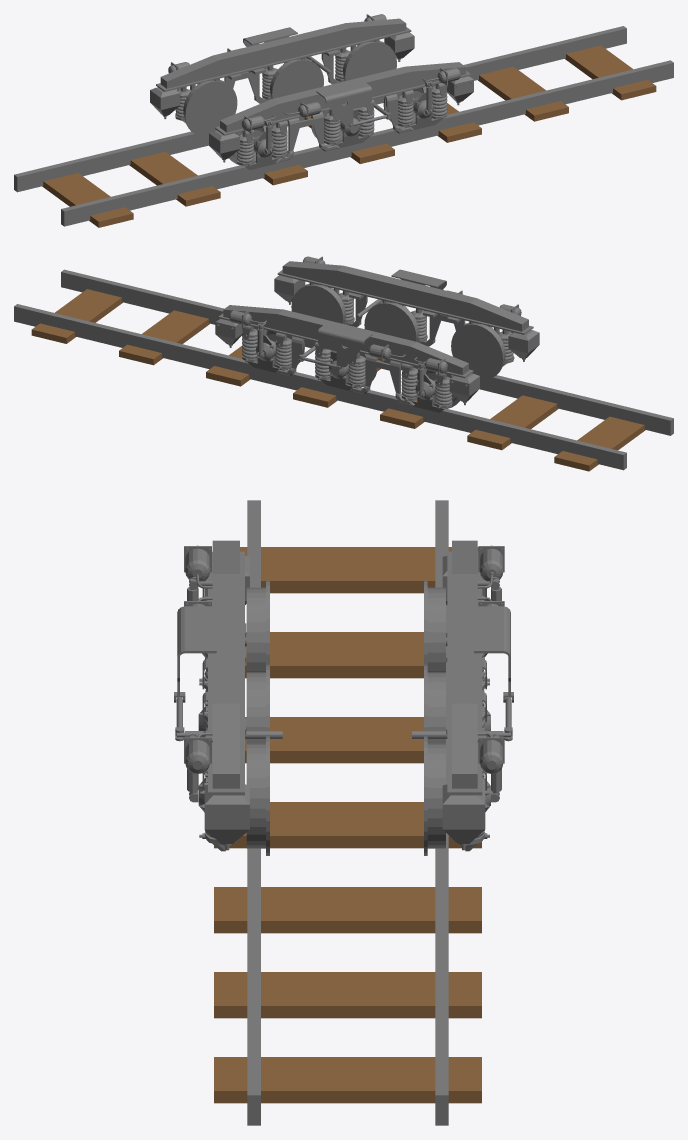
File: otherTrain.gltf
3 views of the same model, one above another, from view 1: azimuth 30°, elevation 25°; view 2: azimuth 150°, elevation 25°; view 3: azimuth 270°, elevation 25° (orthographic). The views are drawn at different scales.
Visible parts, largest first — view 1: RedLocomotive_BogieB, M_Rail; view 2: RedLocomotive_BogieB, M_Rail; view 3: M_Rail, RedLocomotive_BogieB.
Part boxes in pixels (x1,y1,x2,y2): RedLocomotive_BogieB: (150, 14, 473, 169); M_Rail: (14, 26, 673, 227); RedLocomotive_BogieB: (215, 256, 539, 412); M_Rail: (14, 269, 673, 471); M_Rail: (214, 500, 481, 1125); RedLocomotive_BogieB: (174, 540, 513, 855).
Bounding box in the file's own units: 5.69 × 0.7411 × 1.38.
